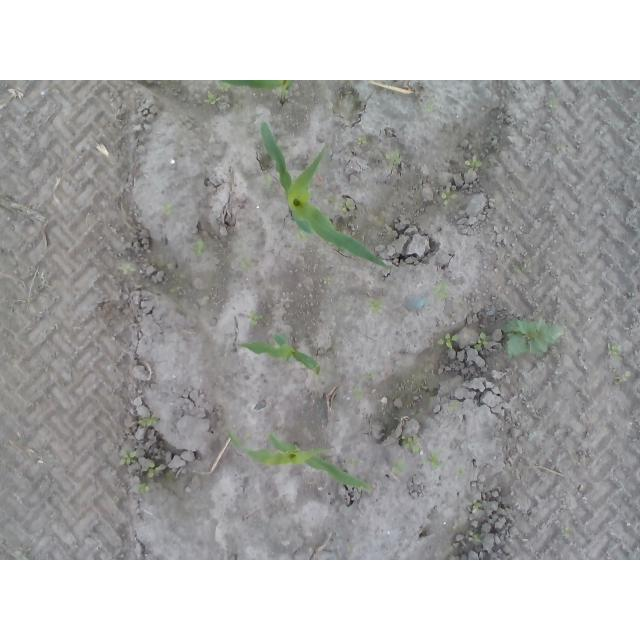Maize: (260, 120, 393, 273), (225, 428, 372, 492), (241, 332, 322, 374), (218, 80, 294, 106)
Weeds: (505, 320, 563, 359), (207, 83, 230, 105), (438, 331, 459, 349), (470, 331, 490, 349), (441, 188, 459, 207), (120, 448, 137, 465), (404, 437, 423, 452), (386, 148, 403, 164), (147, 462, 162, 480), (139, 414, 157, 429), (435, 281, 449, 299), (336, 198, 355, 211), (606, 343, 622, 358), (368, 298, 384, 313), (247, 310, 263, 324), (466, 157, 483, 170), (192, 241, 205, 256), (428, 452, 440, 468), (618, 370, 631, 383), (137, 482, 150, 494), (468, 530, 480, 542), (468, 499, 481, 509), (390, 465, 402, 475), (358, 136, 369, 145), (122, 264, 134, 272), (323, 277, 332, 284)
